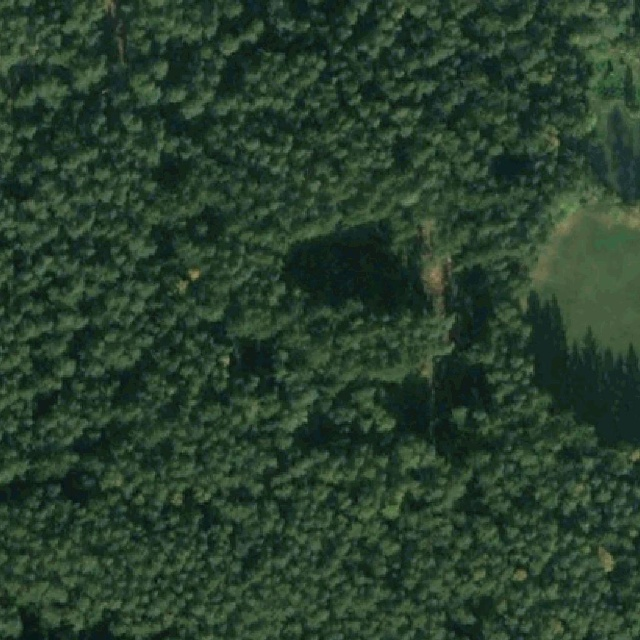vegetation: (0, 0, 640, 640)
